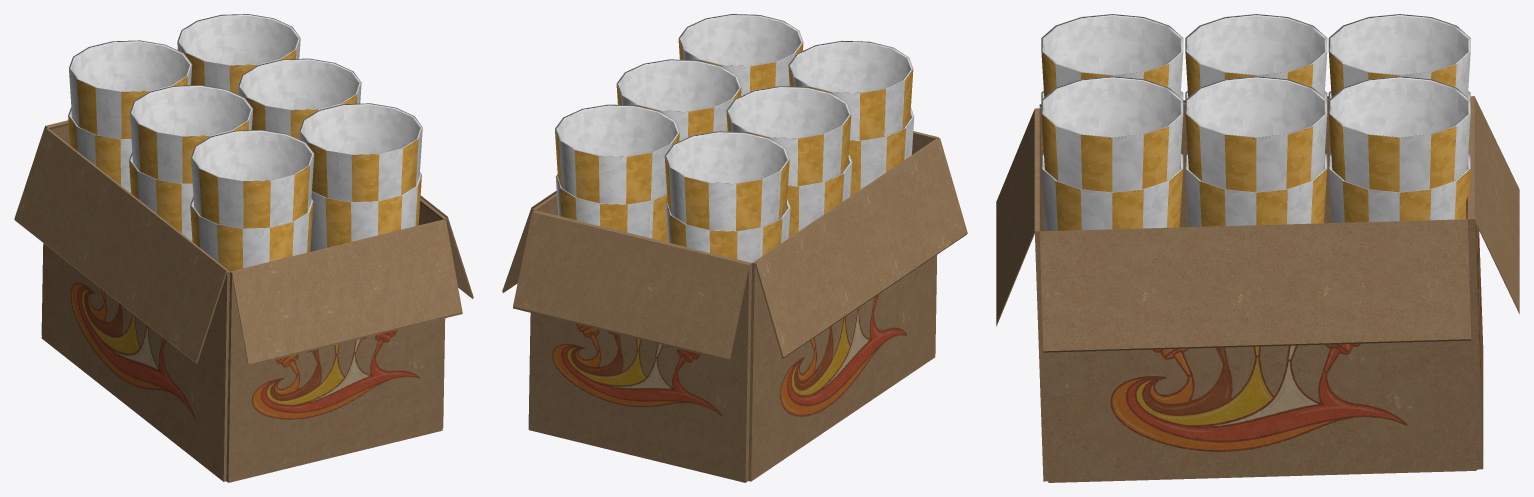
File: DrinkCupBox.fbx
3 renders of one model, left to right at view 1: azimuth 30°, elevation 25°; view 2: azimuth 150°, elevation 25°; view 3: azimuth 270°, elevation 25°, orthographic. The views are drawn at different scales.
Parts seen in each view (by area): view 1: Base_Drink_01; view 2: Base_Drink_01; view 3: Base_Drink_01.
Boxes of the visible parts, <box> form: Base_Drink_01: <box>14,14,473,482</box>; Base_Drink_01: <box>502,14,967,482</box>; Base_Drink_01: <box>996,14,1519,482</box>.
Bounding box in the file's own units: 59.2 × 59.65 × 82.09.
